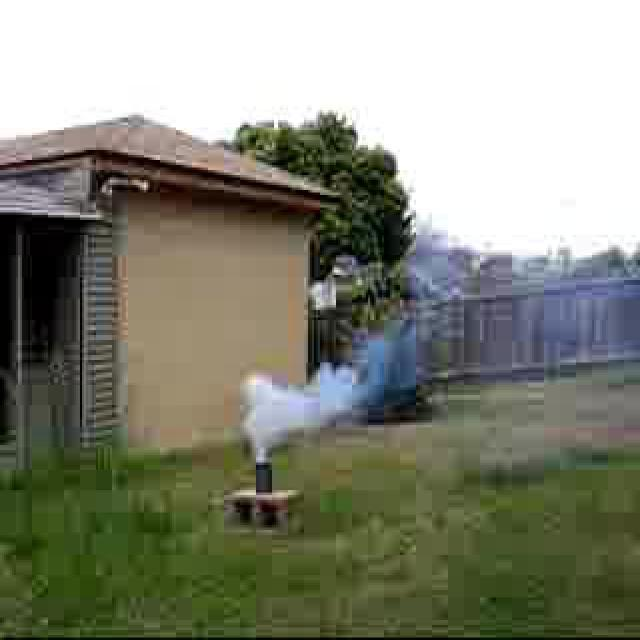Smoke: (243, 352, 376, 459), (236, 370, 363, 444)
